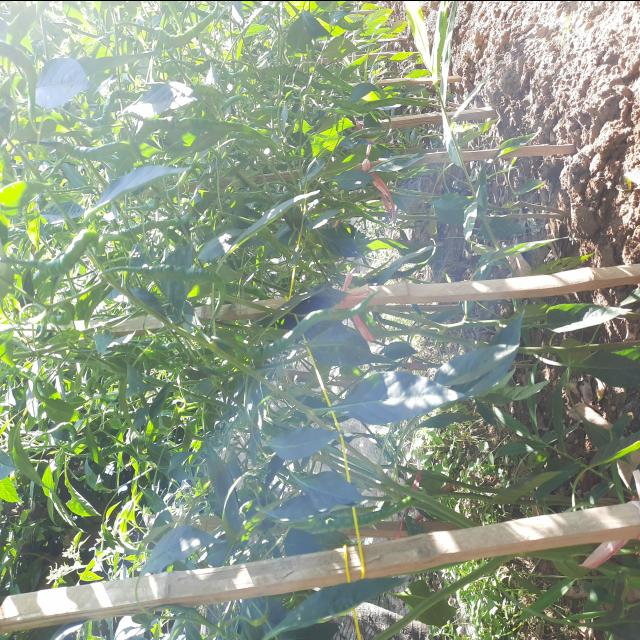sehat: (434, 312, 515, 401), (341, 366, 447, 422), (274, 412, 339, 462), (290, 466, 362, 508)
